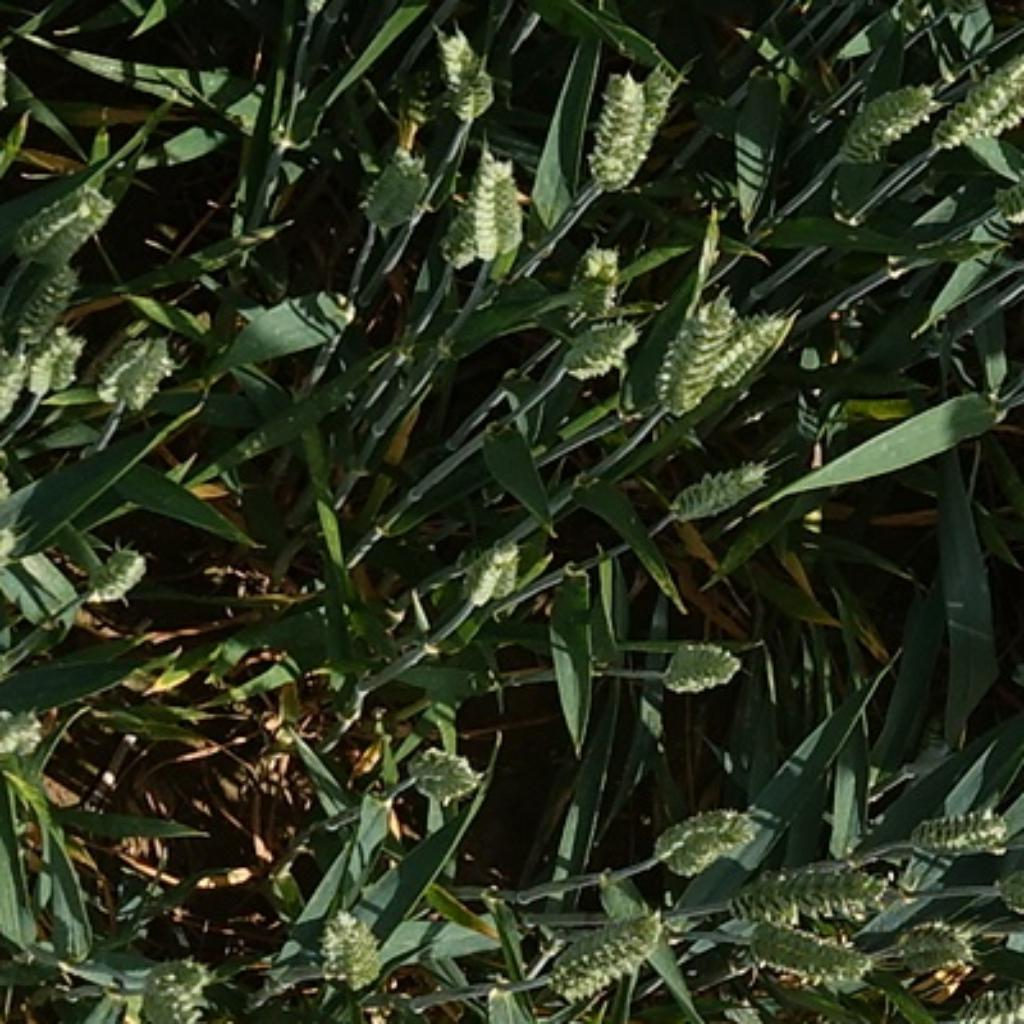0-0: (535, 890, 670, 1006), (601, 59, 692, 192), (640, 289, 732, 419), (450, 142, 529, 267), (647, 791, 762, 875), (727, 864, 888, 924), (732, 921, 880, 985), (657, 450, 778, 524), (837, 71, 939, 158), (576, 66, 643, 190), (940, 57, 1024, 151), (422, 17, 496, 120), (105, 326, 187, 415), (12, 164, 93, 252), (704, 314, 796, 391), (898, 803, 1016, 860), (312, 901, 389, 988), (360, 144, 437, 230), (555, 304, 640, 381), (131, 953, 223, 1024), (40, 190, 120, 268), (2, 271, 87, 340), (899, 908, 984, 975), (460, 537, 535, 609), (652, 637, 747, 693), (79, 537, 153, 604), (406, 744, 487, 799), (569, 240, 624, 308), (23, 337, 84, 394), (0, 335, 35, 432), (96, 335, 144, 398)
